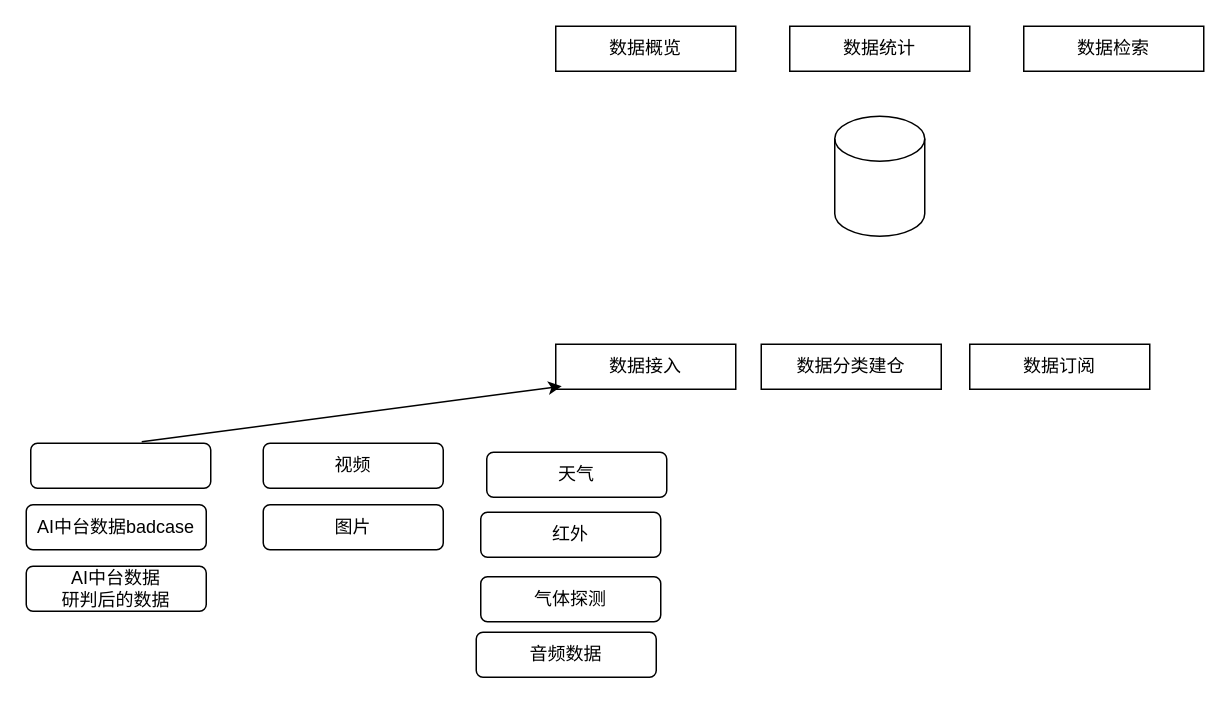
This 1230x704 diagram has some shape labels left out. Here are the shapes that lost their labels. From the top down, the centre of each, then its label:
(x=879, y=175): 数据中台
(x=120, y=465): AI中台数据识别结果
